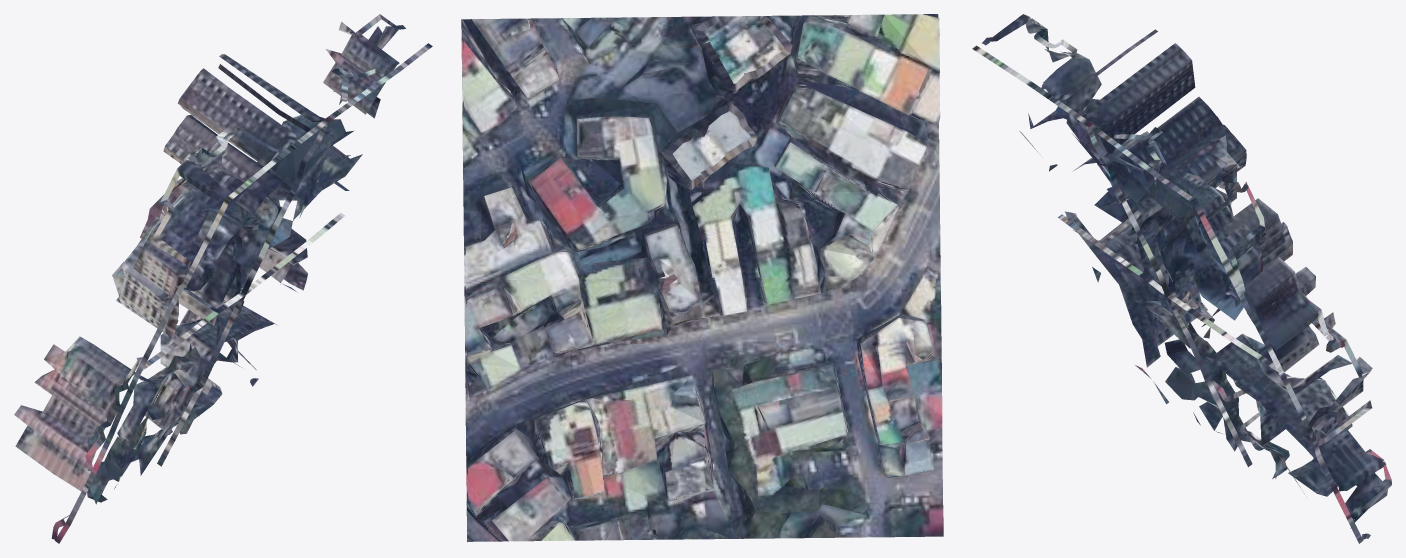
3 renders of one model, left to right at view 1: azimuth 30°, elevation 25°; view 2: azimuth 150°, elevation 25°; view 3: azimuth 270°, elevation 25°, orthographic. The views are drawn at different scales.
Size of the model in its own units: 159 by 156 by 137.
Materials: 2 (2 with a texture image).
